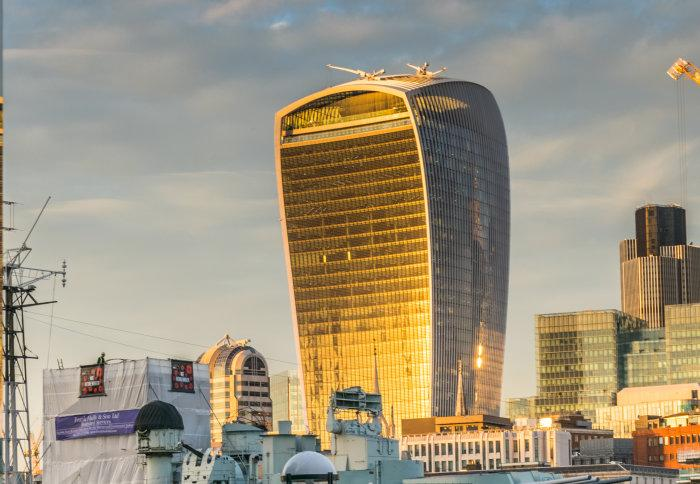Walkie talkie: (253, 63, 523, 413)
